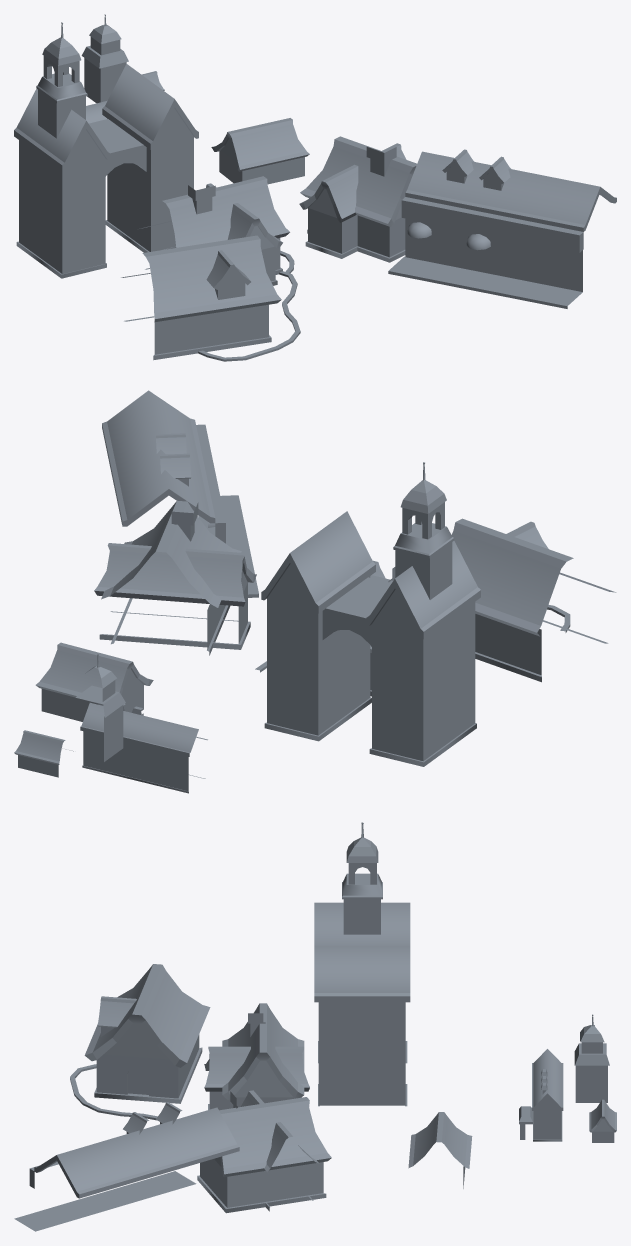
Rendered from gltf__Models__map__Village__startup__v_startup_mergedBuild.glb.
3 renders of one model, top to bottom at view 1: azimuth 30°, elevation 25°; view 2: azimuth 150°, elevation 25°; view 3: azimuth 270°, elevation 25°, orthographic. The views are drawn at different scales.
Parts seen in each view (by area): view 1: v_startup_mergedBuild; view 2: v_startup_mergedBuild; view 3: v_startup_mergedBuild.
Part boxes in pixels (x1,y1,x2,y2): v_startup_mergedBuild: [14, 14, 616, 361]; v_startup_mergedBuild: [14, 390, 616, 793]; v_startup_mergedBuild: [14, 822, 616, 1231].
Size of the model in its own units: 7.34 by 3.75 by 8.59.
1 material, 1 textured.
